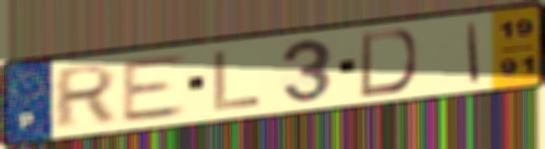3: (275, 36, 340, 105)
D: (356, 27, 420, 100)
E: (119, 51, 189, 126)
I: (464, 20, 483, 85)
L: (210, 48, 265, 113)
R: (50, 61, 120, 132)
